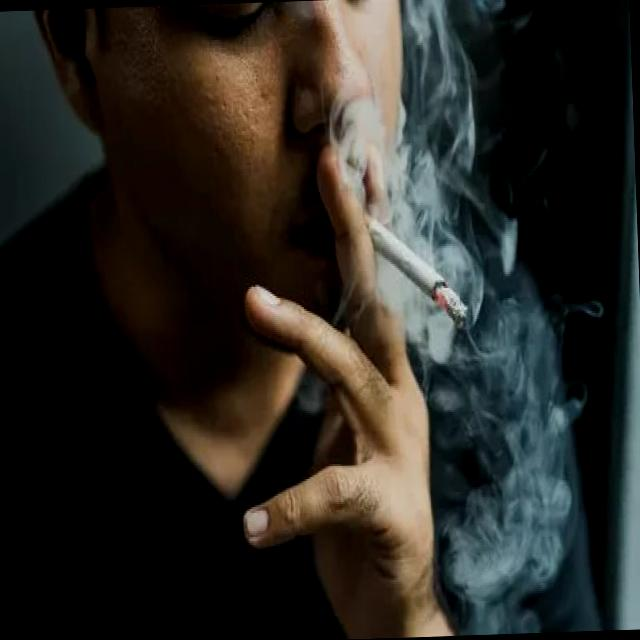smoke: (356, 198, 472, 334)
